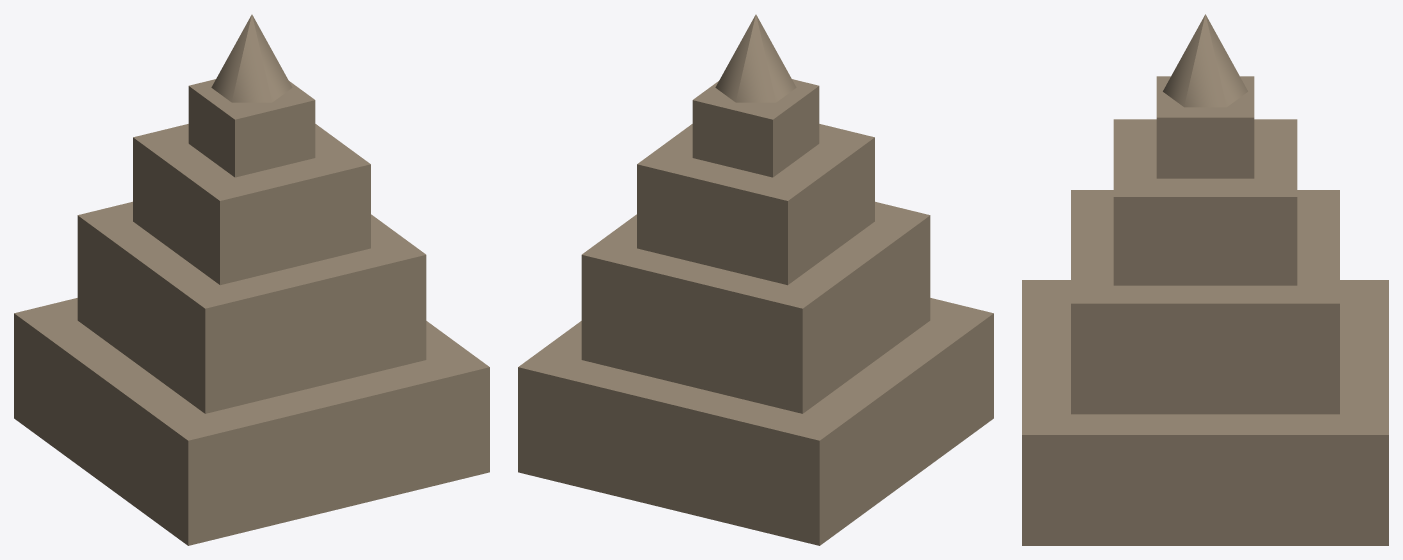
File: heritage-sample.glb
3 renders of one model, left to right at view 1: azimuth 30°, elevation 25°; view 2: azimuth 150°, elevation 25°; view 3: azimuth 270°, elevation 25°, orthographic. The views are drawn at different scales.
Visible parts, largest first — view 1: Prasat; view 2: Prasat; view 3: Prasat.
Part boxes in pixels (x1,y1,x2,y2): Prasat: (14, 14, 489, 545); Prasat: (518, 14, 993, 545); Prasat: (1022, 14, 1388, 545).
Size of the model in its own units: 3 by 4.1 by 3.
